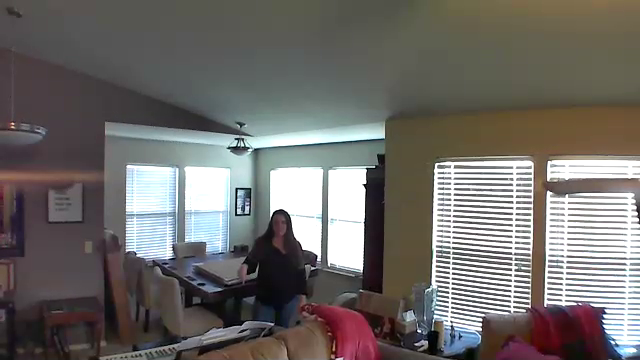down: (236, 263, 252, 289)
